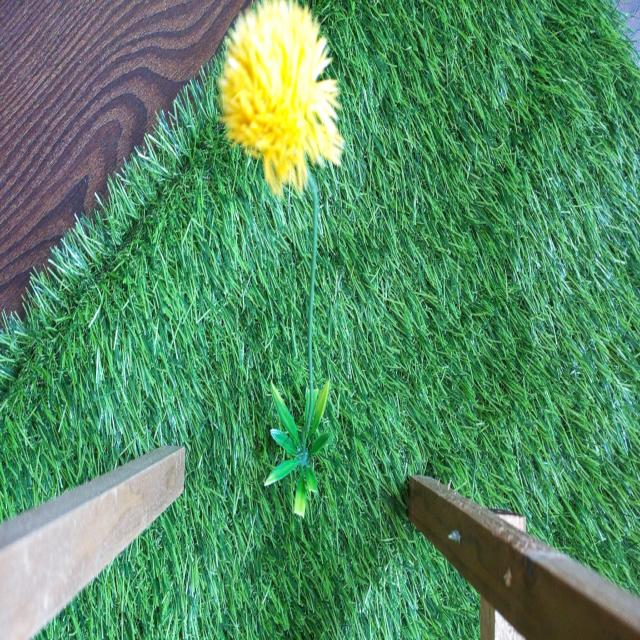base: (263, 371, 331, 517)
flower: (221, 0, 343, 171)
